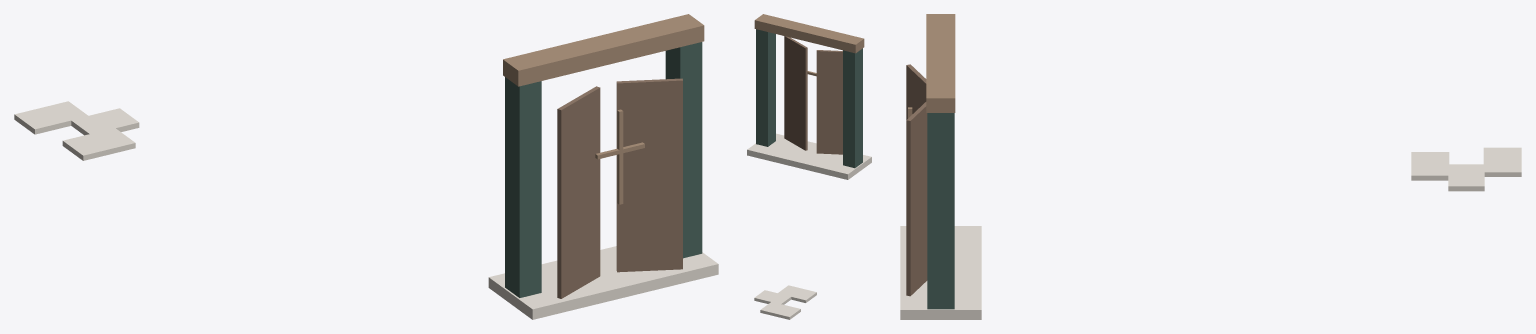
The model's file is chapter-house.glb.
3 renders of one model, left to right at view 1: azimuth 30°, elevation 25°; view 2: azimuth 150°, elevation 25°; view 3: azimuth 270°, elevation 25°, orthographic. The views are drawn at different scales.
Parts seen in each view (by area): view 1: Threshold_LeafR, Threshold_LeafL, Threshold_LeftPier, Threshold_Lintel, Threshold, Threshold_RightPier, Path_StoneA, Path_StoneC, Path_StoneB, Threshold_MullionV; view 2: Threshold_LeafL, Threshold_LeafR, Threshold, Threshold_LeftPier, Threshold_RightPier, Threshold_Lintel, Path_StoneC, Path_StoneA, Path_StoneB; view 3: Threshold_RightPier, Threshold, Threshold_LeafR, Threshold_Lintel, Path_StoneC, Path_StoneA, Path_StoneB, Threshold_LeafL.
Boxes of the visible parts, <box> form: Threshold_LeafR: <box>616,78,682,272</box>; Threshold_LeafL: <box>557,86,600,298</box>; Threshold_LeftPier: <box>505,77,541,297</box>; Threshold_Lintel: <box>503,14,704,86</box>; Threshold: <box>488,246,718,319</box>; Threshold_RightPier: <box>665,42,702,258</box>; Path_StoneA: <box>62,128,135,160</box>; Path_StoneC: <box>14,101,88,134</box>; Path_StoneB: <box>71,108,139,135</box>; Threshold_MullionV: <box>617,109,623,204</box>; Threshold_LeafL: <box>816,50,842,154</box>; Threshold_LeafR: <box>784,36,807,150</box>; Threshold: <box>747,133,871,179</box>; Threshold_LeftPier: <box>843,48,862,168</box>; Threshold_RightPier: <box>756,29,775,146</box>; Threshold_Lintel: <box>754,14,864,53</box>; Path_StoneC: <box>760,302,800,319</box>; Path_StoneA: <box>777,285,816,302</box>; Path_StoneB: <box>754,290,791,304</box>; Threshold_RightPier: <box>927,113,954,309</box>; Threshold: <box>900,226,981,319</box>; Threshold_LeafR: <box>906,102,927,296</box>; Threshold_Lintel: <box>926,14,955,112</box>; Path_StoneC: <box>1483,147,1521,176</box>; Path_StoneA: <box>1411,152,1449,180</box>; Path_StoneB: <box>1448,164,1484,191</box>; Threshold_LeafL: <box>906,64,926,119</box>.
Size of what is drawn, in the model's own units: 4.37 by 2.7 by 6.86.
